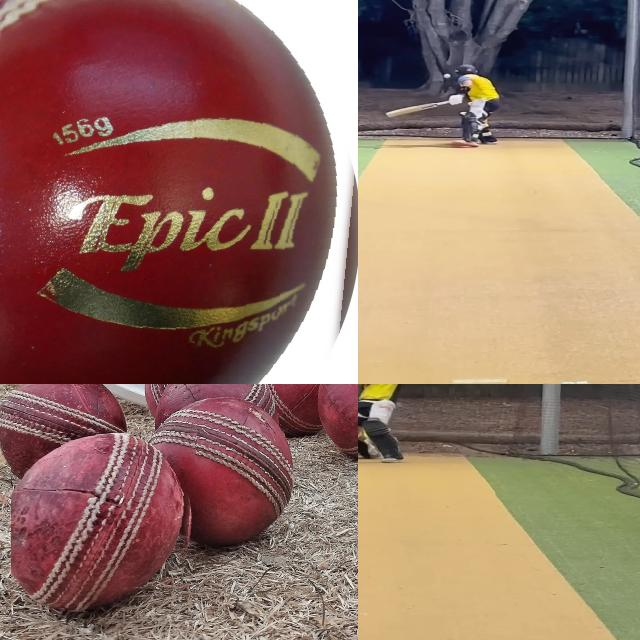Cricket ball: (0, 0, 358, 384), (11, 433, 198, 628), (317, 384, 358, 464), (443, 73, 451, 79)
